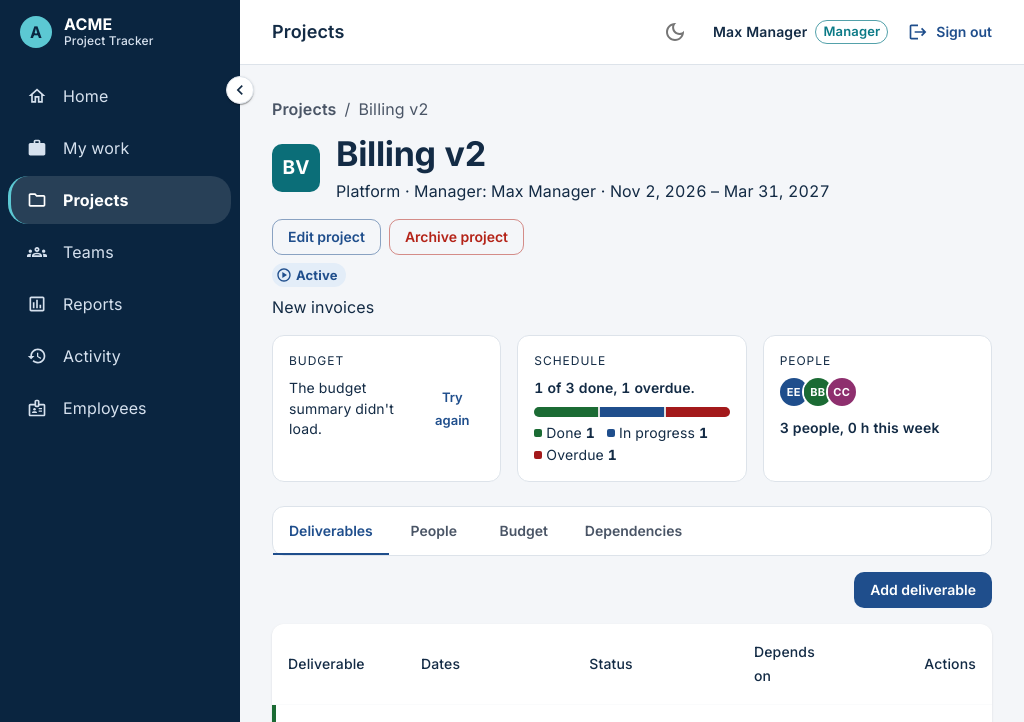
Project header: budget bar › a failed load says so without blanking the page, and can be retried
This screenshot has width=1024, height=722.
Expected: the text "The budget summary didn't load." is shown, x1=289 y1=378 x2=412 y2=438
Click the button "Try again".
click(452, 409)  # box x1=420 y1=382 x2=484 y2=435
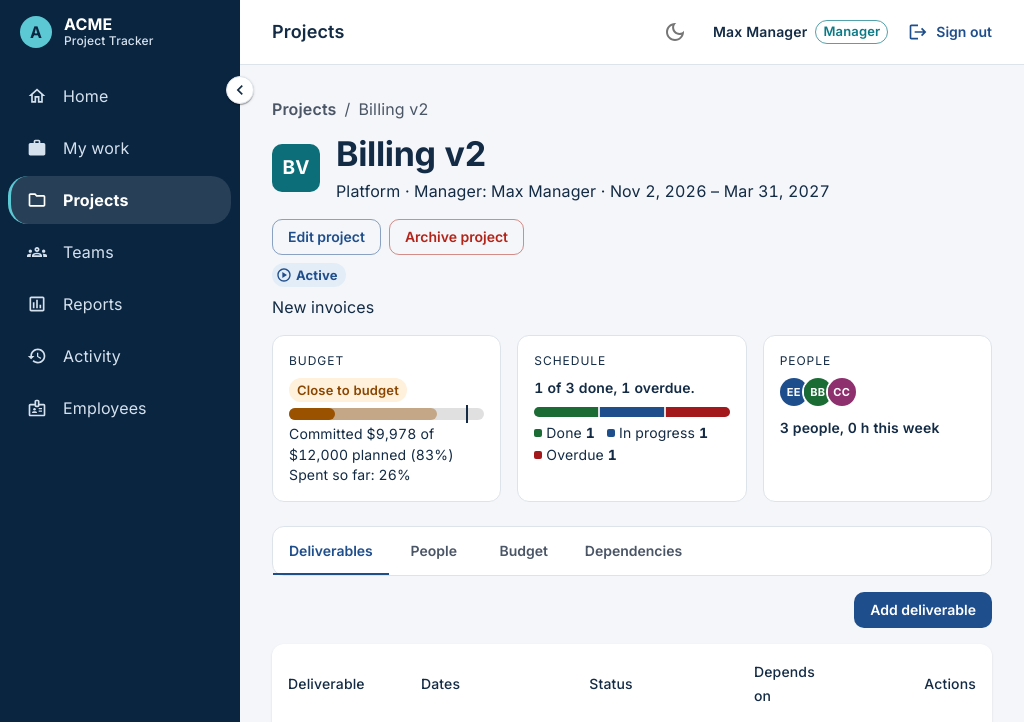
Result: the element named "Budget summary" is shown at x1=289 y1=378 x2=484 y2=484
